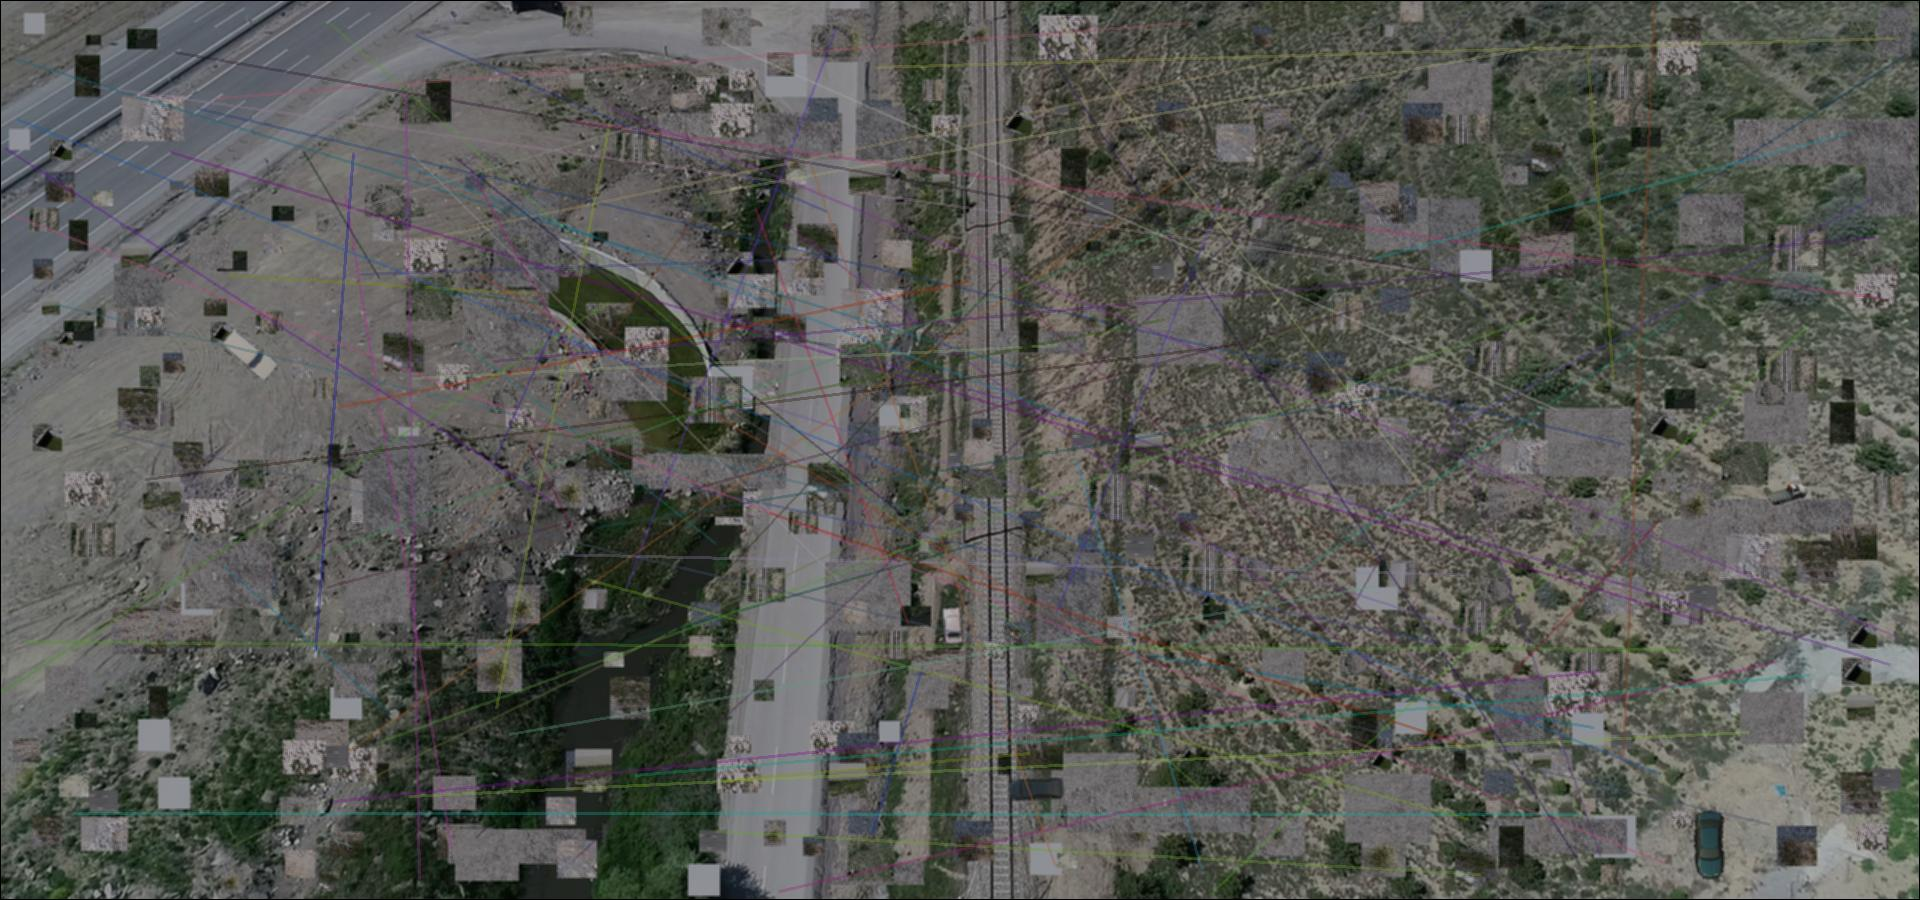arac: (219, 327, 278, 381), (1693, 811, 1724, 879), (1008, 778, 1067, 803), (1764, 480, 1809, 507), (940, 606, 964, 651)
